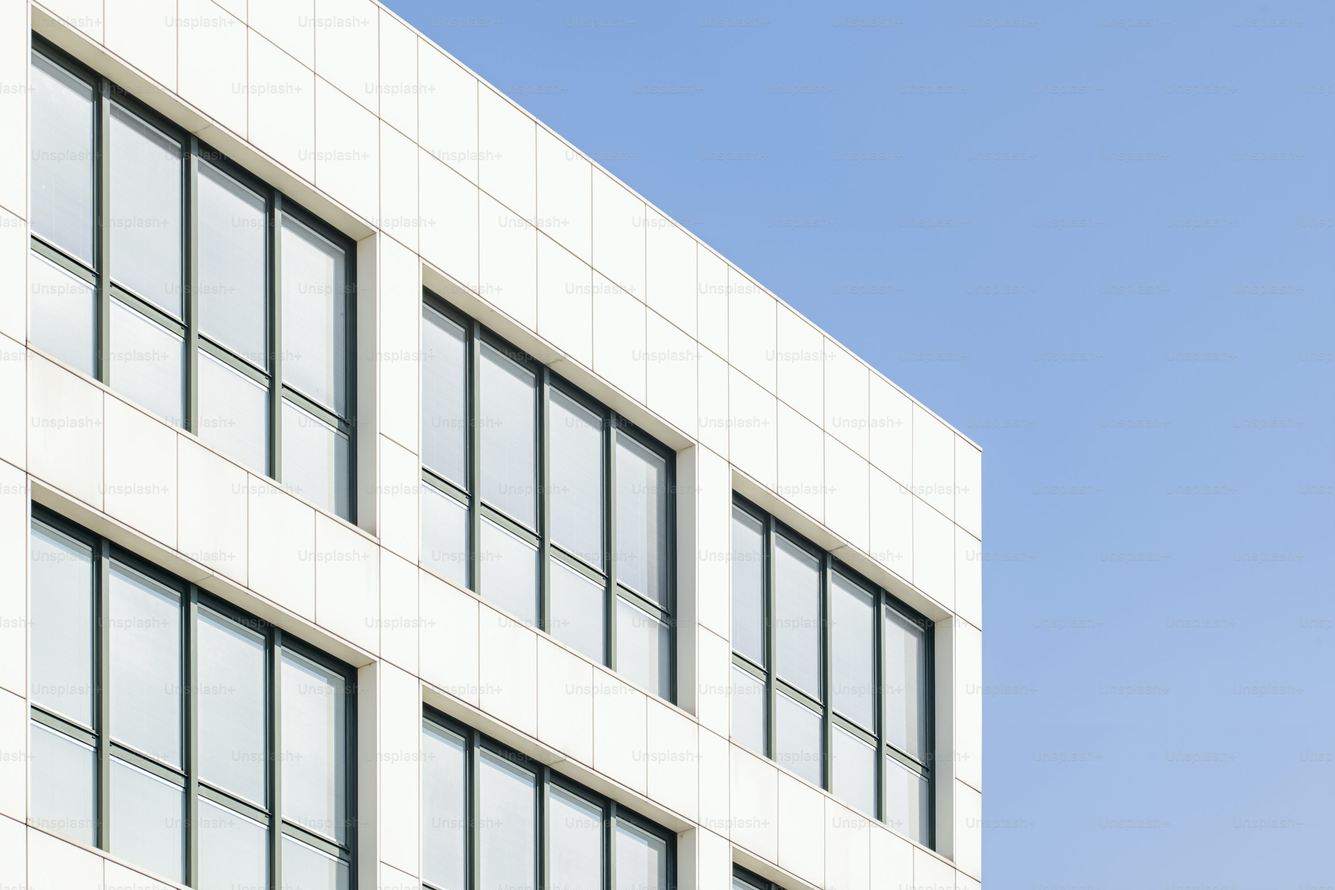glass_panel: (107, 105, 182, 317), (107, 564, 181, 766), (197, 163, 267, 368), (195, 608, 266, 805), (30, 53, 94, 265), (281, 216, 347, 416), (30, 522, 93, 727), (281, 651, 347, 843), (478, 344, 535, 528), (547, 389, 603, 567), (615, 435, 670, 607), (110, 299, 184, 426), (110, 757, 184, 882), (198, 349, 268, 474), (421, 306, 467, 486), (30, 722, 96, 846), (477, 752, 536, 890), (29, 253, 95, 376), (282, 400, 350, 518), (422, 723, 468, 890), (774, 535, 820, 698), (831, 574, 874, 731), (883, 608, 927, 759), (198, 797, 268, 890), (479, 518, 537, 625), (549, 557, 605, 663), (617, 597, 672, 700), (548, 786, 602, 890), (731, 506, 764, 663), (421, 484, 468, 586), (774, 692, 821, 786), (884, 756, 929, 845), (831, 726, 875, 815), (282, 835, 350, 890), (615, 821, 667, 890), (731, 665, 766, 755), (732, 875, 764, 890)
